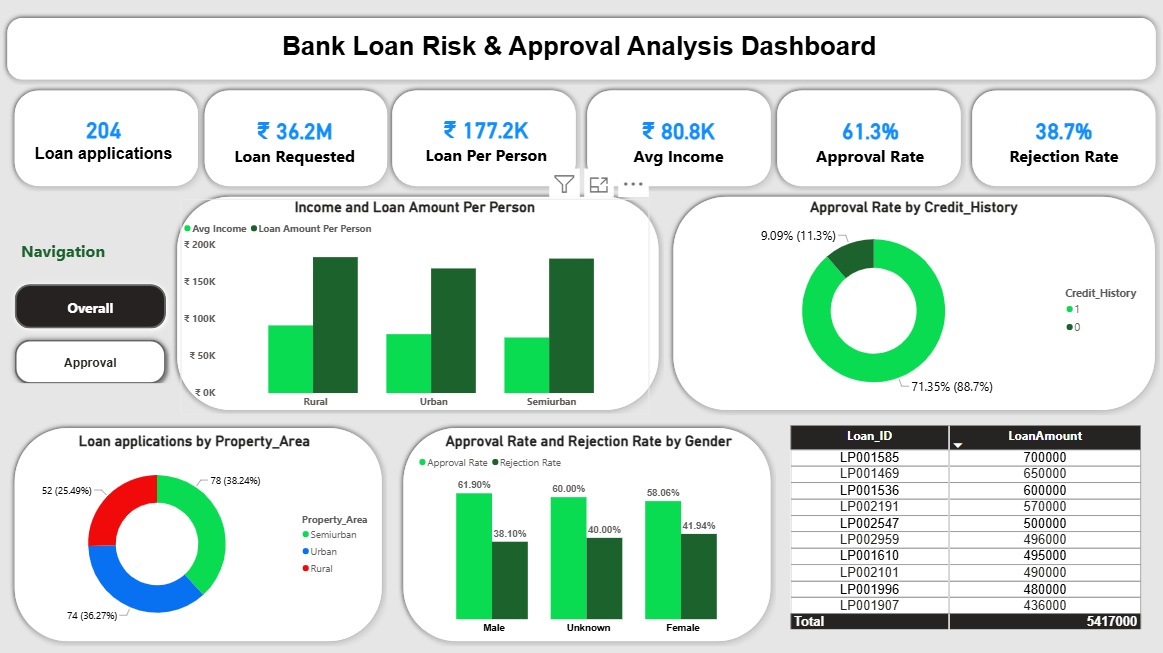

The page's visual inventory and layout, read from the dashboard file:
{"tool":"powerbi","page":{"name":"Overall","canvas":[1920,1080],"ordinal":0},"visuals":[{"type":"shape","box":[5.4,19.9,1909.2,119.4],"z":0},{"type":"shape","box":[18.1,139.3,320,175.5],"z":1000},{"type":"shape","box":[18.1,696.7,622.5,369.2],"z":2000},{"type":"shape","box":[658.7,696.7,622.5,369.2],"z":3000},{"type":"shape","box":[640.6,139.3,320.3,175.5],"z":5000},{"type":"shape","box":[960.9,139.3,320.3,175.5],"z":6000},{"type":"shape","box":[1274,139.3,320.3,175.5],"z":7000},{"type":"shape","box":[1594.3,139.3,320,175.5],"z":8000},{"type":"shape","box":[331.2,139.3,318.5,175.5],"z":9000},{"type":"shape","box":[285.9,314.9,810.7,369.2],"z":10000},{"type":"shape","box":[1103.9,314.9,810.7,369.2],"z":11000},{"type":"advanceCardE03760C5AB684758B56AA29F9E6C257B","fields":{"mainMeasure":["loan_risk.Total loan applications"]},"box":[18.1,152,311.3,150.2],"z":13000},{"type":"advanceCardE03760C5AB684758B56AA29F9E6C257B","fields":{"mainMeasure":["loan_risk.Loan Amount requested"]},"box":[338.4,152,302.2,152],"z":14000},{"type":"advanceCardE03760C5AB684758B56AA29F9E6C257B","fields":{"mainMeasure":["loan_risk.Loan Amount Per Person"]},"box":[649.7,152,307.6,150.2],"z":15000},{"type":"advanceCardE03760C5AB684758B56AA29F9E6C257B","fields":{"mainMeasure":["loan_risk.Avg Income"]},"box":[970,152,304,152],"z":16000},{"type":"advanceCardE03760C5AB684758B56AA29F9E6C257B","fields":{"mainMeasure":["loan_risk.Approval Rate"]},"box":[1281.2,152,313.1,152],"z":17000},{"type":"advanceCardE03760C5AB684758B56AA29F9E6C257B","fields":{"mainMeasure":["loan_risk.Rejection Rate"]},"box":[1594.3,153.8,320.3,150.2],"z":18000},{"type":"textbox","box":[18.1,47.1,1876.6,76],"z":19000},{"type":"donutChart","fields":{"Category":["loan_risk.Credit_History"],"Y":["loan_risk.Approval Rate"]},"box":[1122,327.5,772.7,342],"z":20000},{"type":"clusteredColumnChart","title":"Income and Loan Amount Per Person","fields":{"Category":["loan_risk.Property_Area"],"Y":["loan_risk.Avg Income","loan_risk.Loan Amount Per Person"]},"box":[300.5,327.3,771.9,356.1],"z":21000},{"type":"clusteredColumnChart","fields":{"Category":["loan_risk.Gender"],"Y":["loan_risk.Approval Rate","loan_risk.Rejection Rate"]},"box":[687.5,712.2,570.2,339.6],"z":22000},{"type":"donutChart","title":"Loan applications by Property_Area","fields":{"Category":["loan_risk.Property_Area"],"Y":["loan_risk.Total loan applications"]},"box":[18.1,711.2,609.9,340.2],"z":23000},{"type":"tableEx","fields":{"Values":["loan_risk.Loan_ID","Sum(loan_risk.LoanAmount)"]},"box":[1298.8,695.7,588.7,356.1],"z":24000},{"type":"pageNavigator","box":[18.5,459,267.6,172.9],"z":24001},{"type":"textbox","box":[32.9,389,267.6,70],"z":24003}]}

Visuals, with their boxes in screenshot pixels (x1, y1, x2, y2), scaled from the page's 1920x1080 canvas onto the 1163x653 screenshot:
shape: box=[3, 12, 1160, 84]
shape: box=[11, 84, 205, 190]
shape: box=[11, 421, 388, 644]
shape: box=[399, 421, 776, 644]
shape: box=[388, 84, 582, 190]
shape: box=[582, 84, 776, 190]
shape: box=[772, 84, 966, 190]
shape: box=[966, 84, 1160, 190]
shape: box=[201, 84, 394, 190]
shape: box=[173, 190, 664, 414]
shape: box=[669, 190, 1160, 414]
advanceCardE03760C5AB684758B56AA29F9E6C257B - loan_risk.Total loan applications: box=[11, 92, 200, 183]
advanceCardE03760C5AB684758B56AA29F9E6C257B - loan_risk.Loan Amount requested: box=[205, 92, 388, 184]
advanceCardE03760C5AB684758B56AA29F9E6C257B - loan_risk.Loan Amount Per Person: box=[394, 92, 580, 183]
advanceCardE03760C5AB684758B56AA29F9E6C257B - loan_risk.Avg Income: box=[588, 92, 772, 184]
advanceCardE03760C5AB684758B56AA29F9E6C257B - loan_risk.Approval Rate: box=[776, 92, 966, 184]
advanceCardE03760C5AB684758B56AA29F9E6C257B - loan_risk.Rejection Rate: box=[966, 93, 1160, 184]
textbox: box=[11, 28, 1148, 74]
donutChart - loan_risk.Credit_History x loan_risk.Approval Rate: box=[680, 198, 1148, 405]
"Income and Loan Amount Per Person" clusteredColumnChart: box=[182, 198, 650, 413]
clusteredColumnChart - loan_risk.Gender x loan_risk.Approval Rate: box=[416, 431, 762, 636]
"Loan applications by Property_Area" donutChart: box=[11, 430, 380, 636]
tableEx - loan_risk.Loan_ID x Sum(loan_risk.LoanAmount): box=[787, 421, 1143, 636]
pageNavigator: box=[11, 278, 173, 382]
textbox: box=[20, 235, 182, 278]
